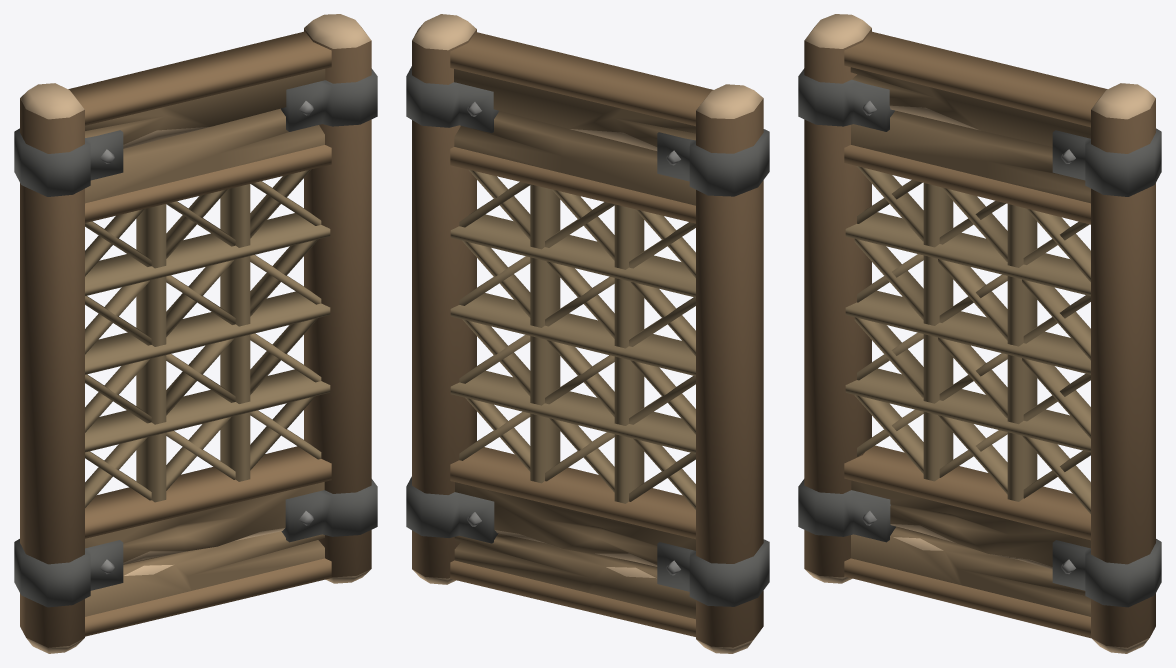
The model's file is rpgpp_ag_shelf_wood_04c.fbx.
The picture shows the model from 3 angles, left to right: view 1: azimuth 30°, elevation 25°; view 2: azimuth 150°, elevation 25°; view 3: azimuth 330°, elevation 25°; orthographic projection.
Visible parts, largest first — view 1: rpgpp_ag_shelf_wood_04c; view 2: rpgpp_ag_shelf_wood_04c; view 3: rpgpp_ag_shelf_wood_04c.
Part boxes in pixels (bbox=[...]): rpgpp_ag_shelf_wood_04c: bbox=[14, 14, 377, 653]; rpgpp_ag_shelf_wood_04c: bbox=[406, 14, 769, 653]; rpgpp_ag_shelf_wood_04c: bbox=[798, 14, 1161, 653].
Size of the model in its own units: 1.61 by 2.44 by 0.3535.
